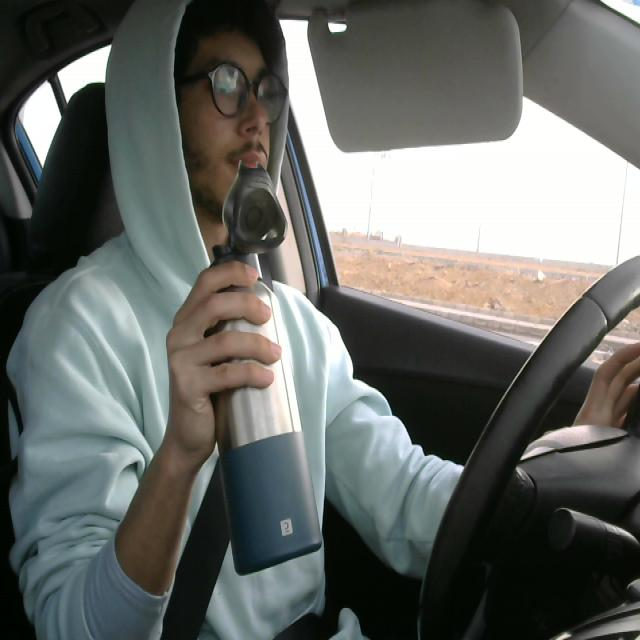drinking: (193, 158, 327, 579)
